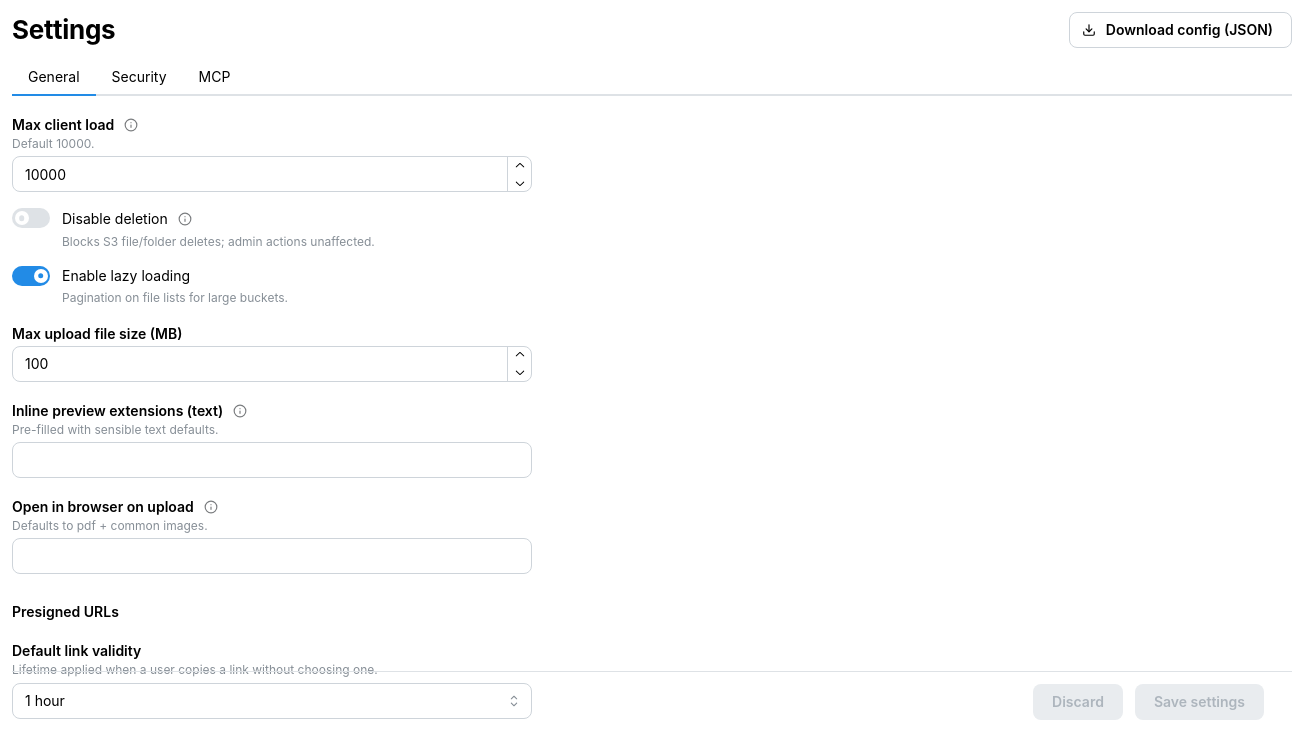
SettingsPage Download config button › shows an error notification when exportConfig fails
The width and height of the screenshot is (1304, 732).
Click the button "Download config (JSON)" at (1180, 30), box [1069,12,1292,48]
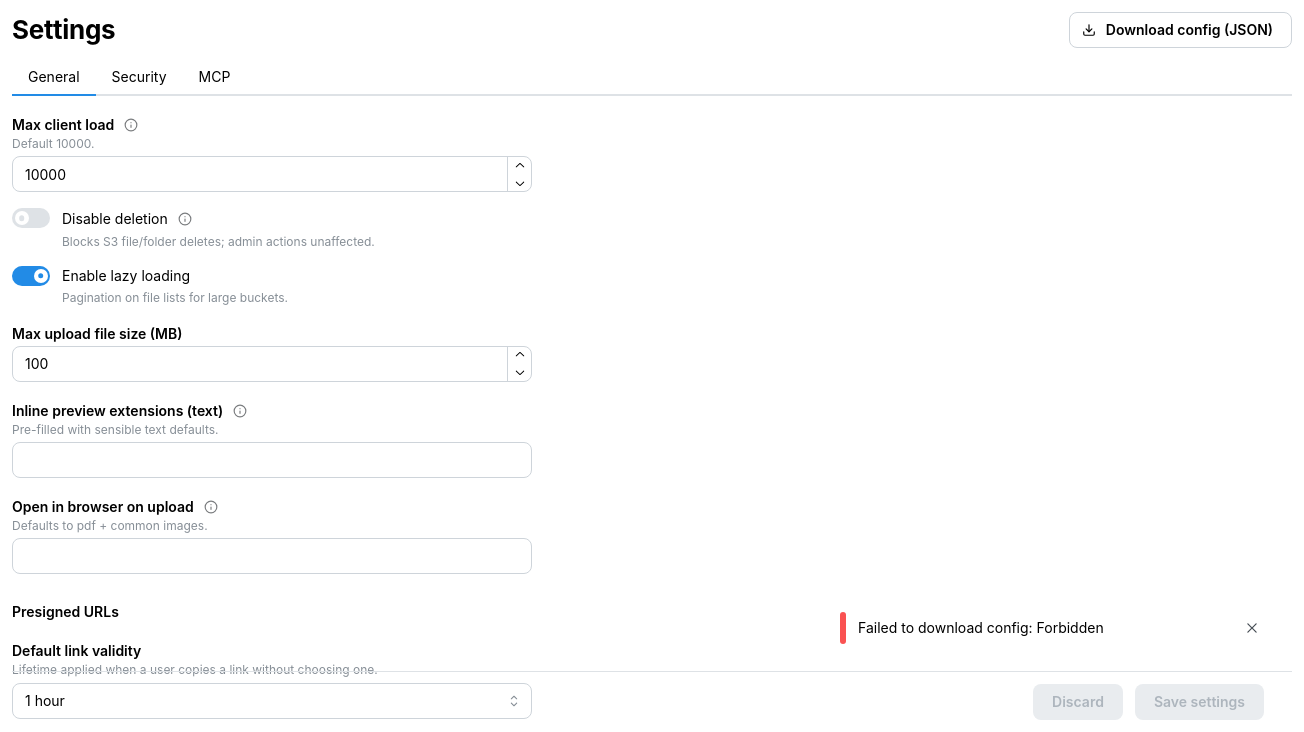
Expected: the text "Failed to download config: Forbidden" is shown, [858,619,1104,636]
